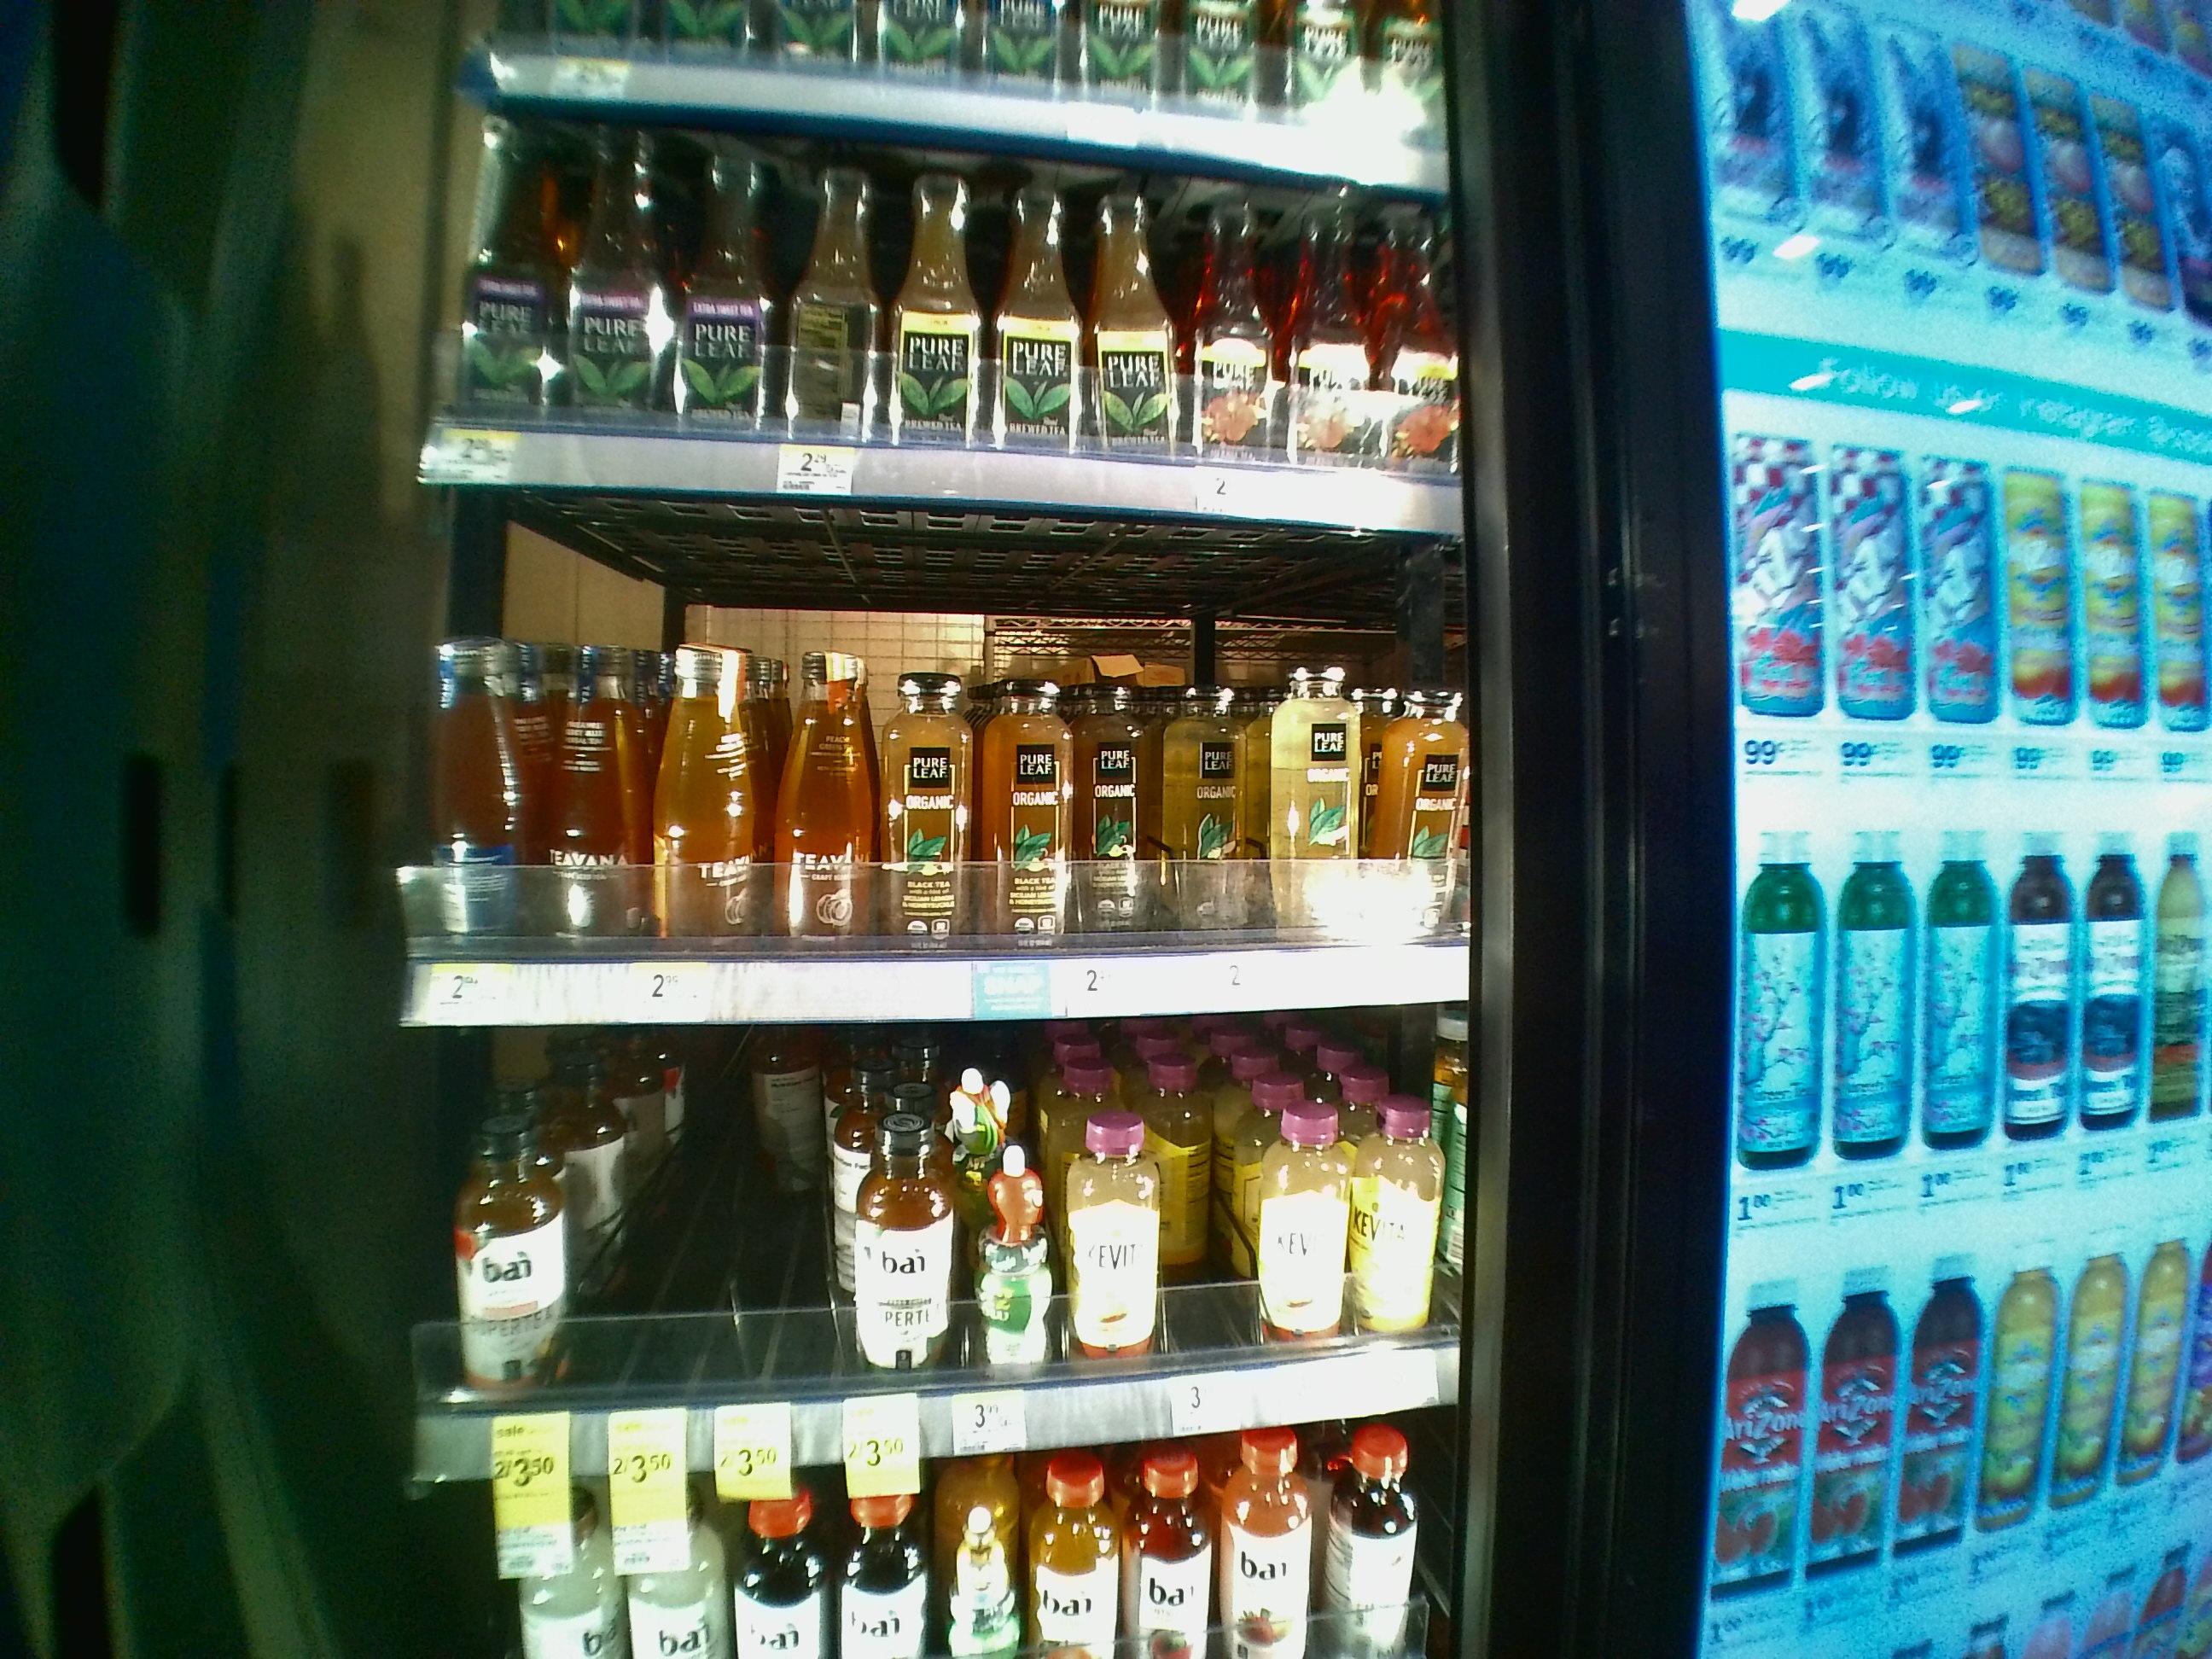shelf: (395, 518, 1474, 1030), (404, 1042, 1468, 1486), (420, 101, 1460, 511)
